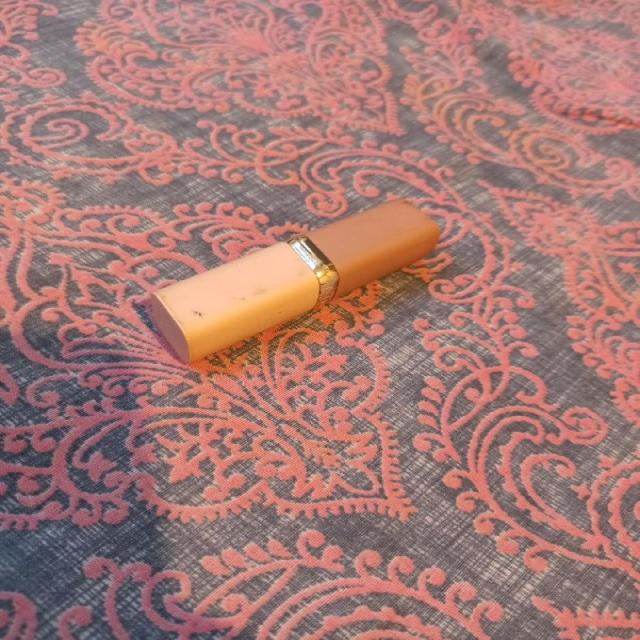lipstick: (148, 196, 440, 364)
